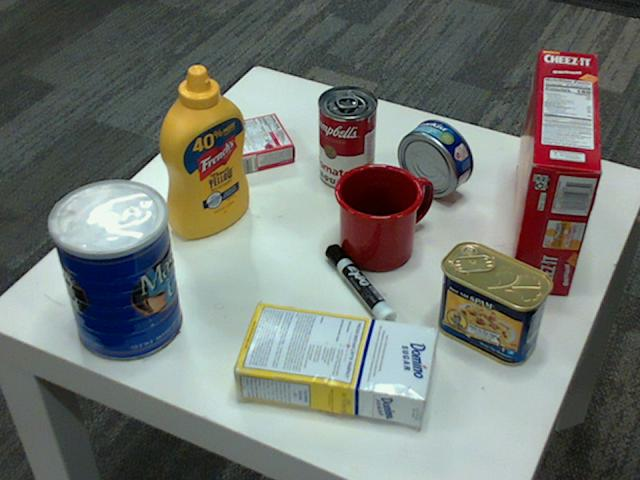cracker_box: (506, 49, 602, 293)
gelatin_box: (209, 110, 295, 175)
large_marker: (325, 246, 396, 330)
master_chef_can: (45, 180, 180, 362)
mug: (332, 161, 428, 269)
mustard_bottle: (158, 65, 249, 238)
potted_meat_can: (435, 241, 552, 365)
sugar_box: (227, 300, 435, 425)
tomato_soup_can: (317, 86, 376, 190)
tuna_fish_can: (396, 119, 471, 197)
